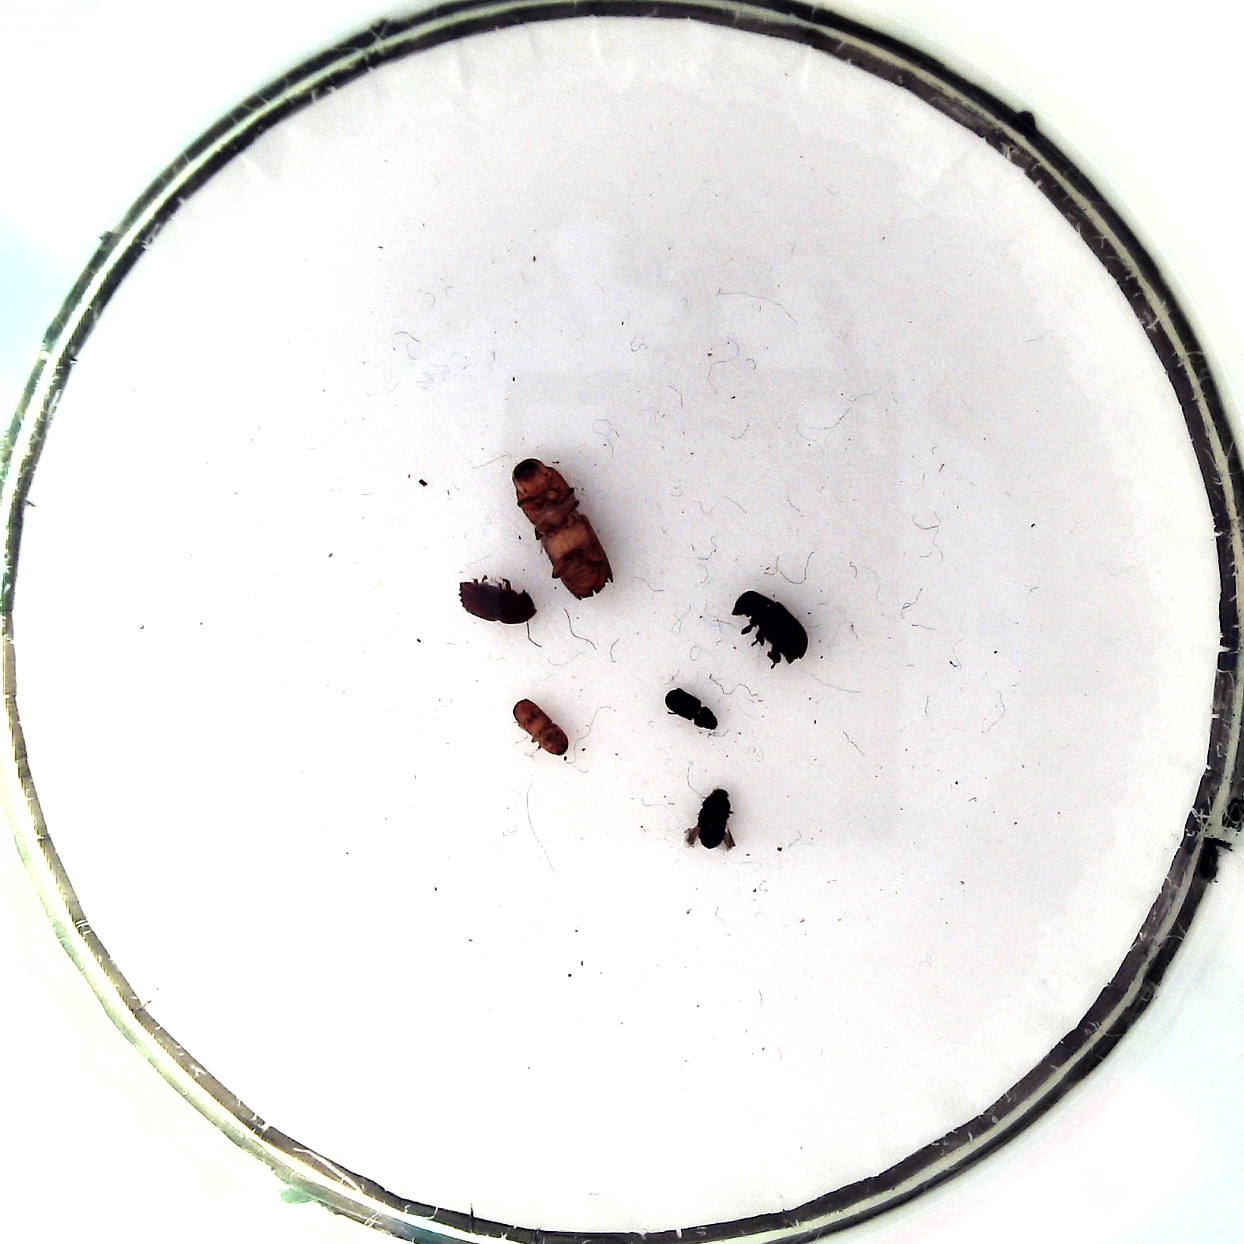Boerner: (511, 458, 614, 601)
acuminatus: (665, 687, 718, 729), (698, 788, 731, 849)
armandi: (733, 590, 808, 665)
coleoptera: (511, 697, 568, 755)
linnaeus: (459, 580, 538, 624)
